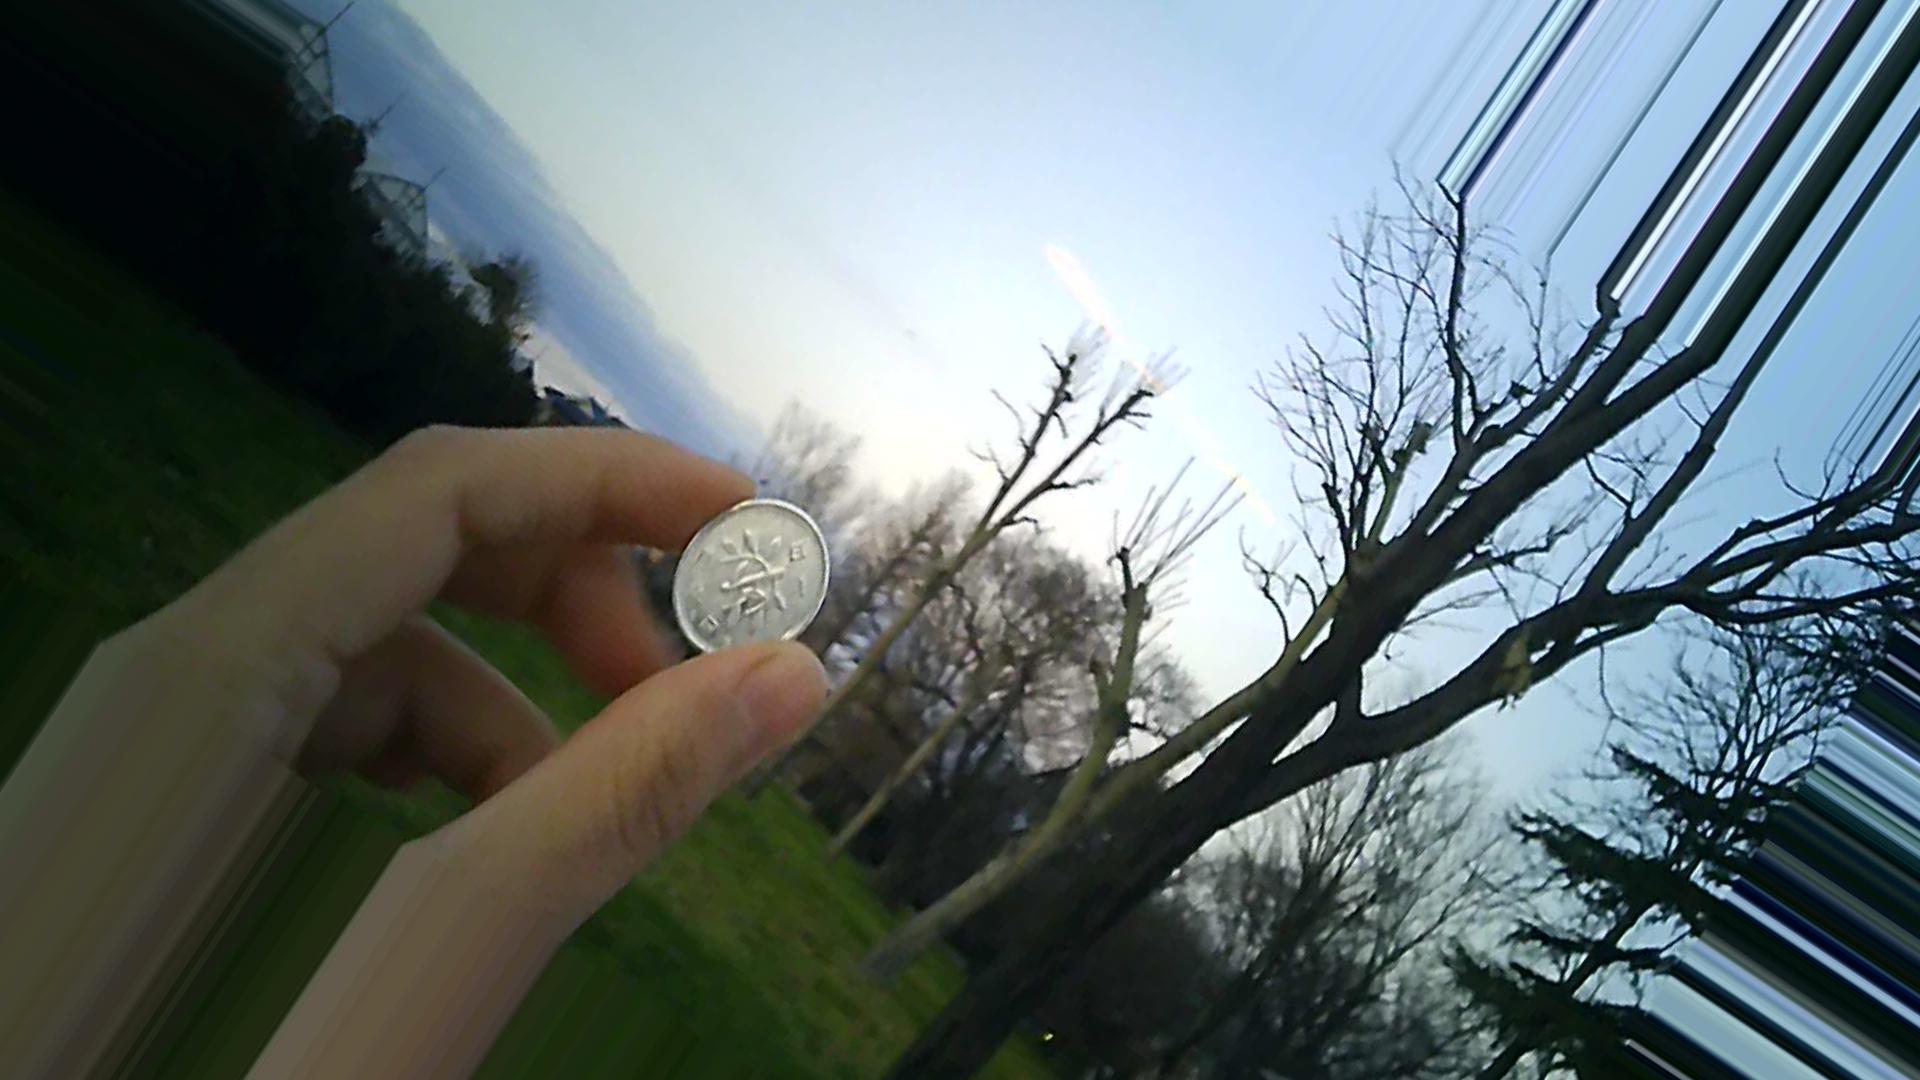1 Yen: (657, 480, 835, 684)
